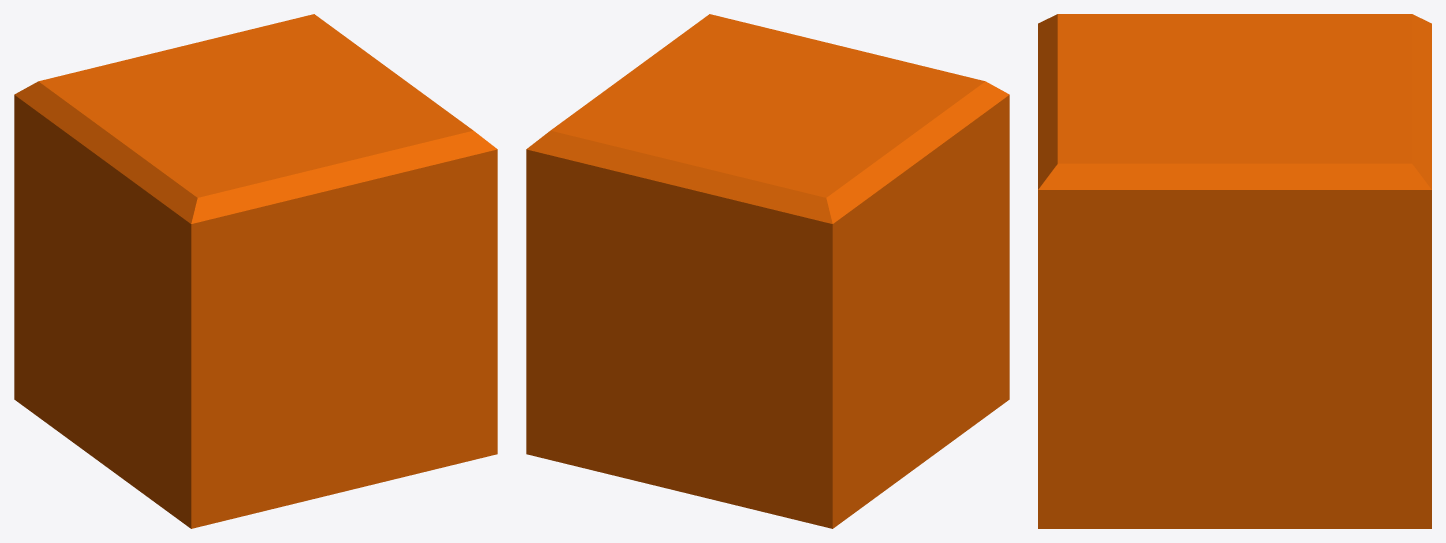
Rendered from wallBounce.fbx.
The picture shows the model from 3 angles, left to right: view 1: azimuth 30°, elevation 25°; view 2: azimuth 150°, elevation 25°; view 3: azimuth 270°, elevation 25°; orthographic projection. The views are drawn at different scales.
Parts seen in each view (by area): view 1: wallBounce; view 2: wallBounce; view 3: wallBounce.
Boxes of the visible parts, x1,y1,x2,y2 form: wallBounce: (14,14,497,528); wallBounce: (526,14,1009,528); wallBounce: (1038,14,1431,528).
Bounding box in the file's own units: 100 × 100 × 100.
